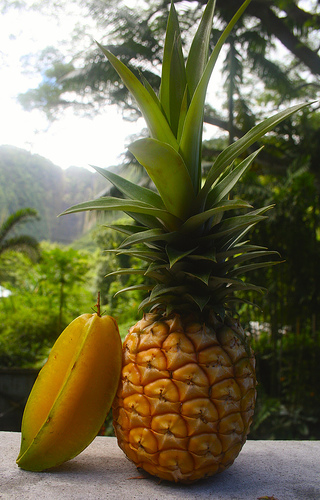pineapple: (56, 0, 318, 488)
